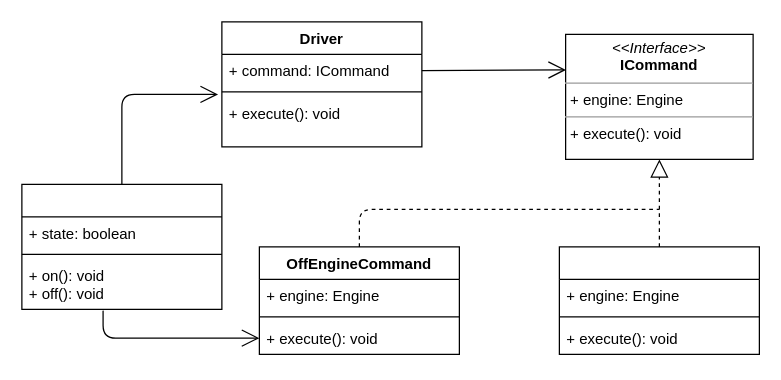
Some shapes in this 781 by 380 pixel diagram are drawn without their labels. Here are the shapes that lost their labels. From the top down, the box of each, then its label:
(21, 183, 222, 309): Engine
(558, 246, 759, 354): OnEngineCommand
